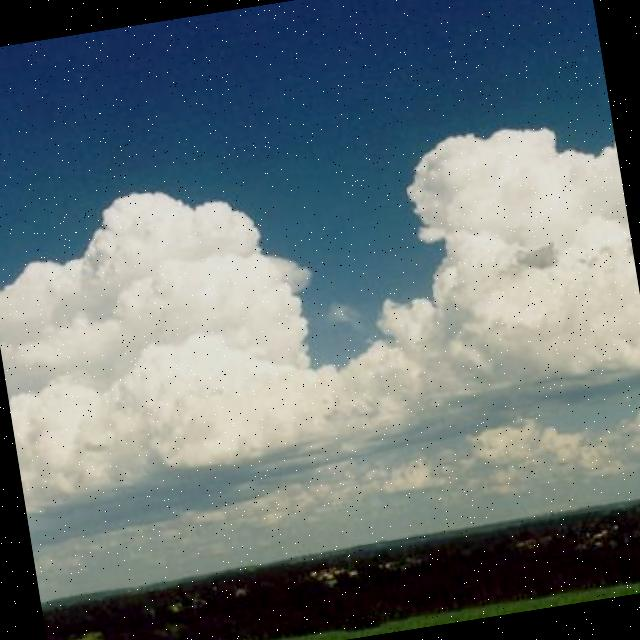Cu: (1, 61, 640, 500)
